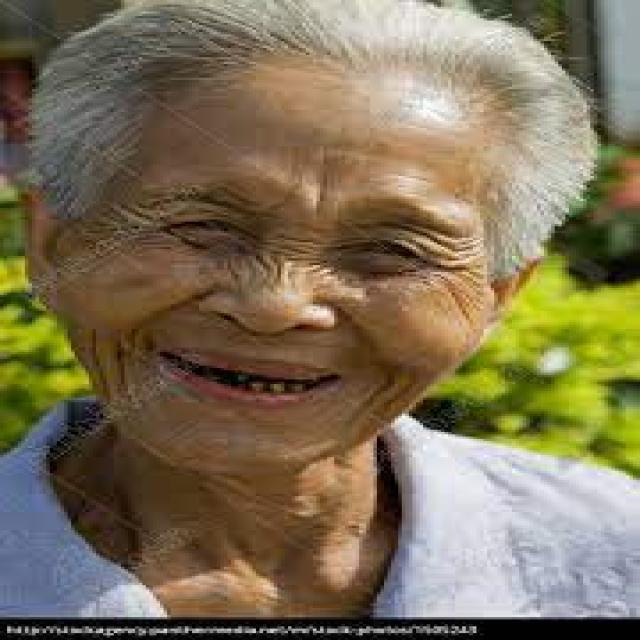Wrinkles: (68, 189, 193, 260), (433, 232, 491, 345), (225, 226, 315, 282), (328, 371, 393, 443), (359, 366, 423, 435), (85, 330, 115, 413), (115, 322, 141, 410)
